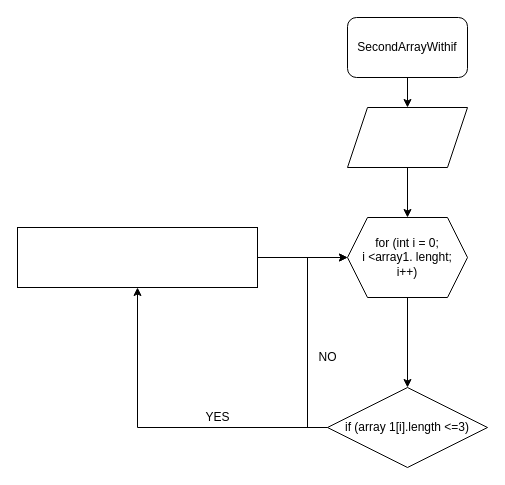
Image size: 505x485. Some labels were removed from this diagram. Here are the shapes that lost their labels. From the top down, the box of each, then its label:
(346, 106, 468, 168): string[] array 1 string array 2 int count = 0
(16, 226, 258, 288): array2[count] = array 1[i] count++;
